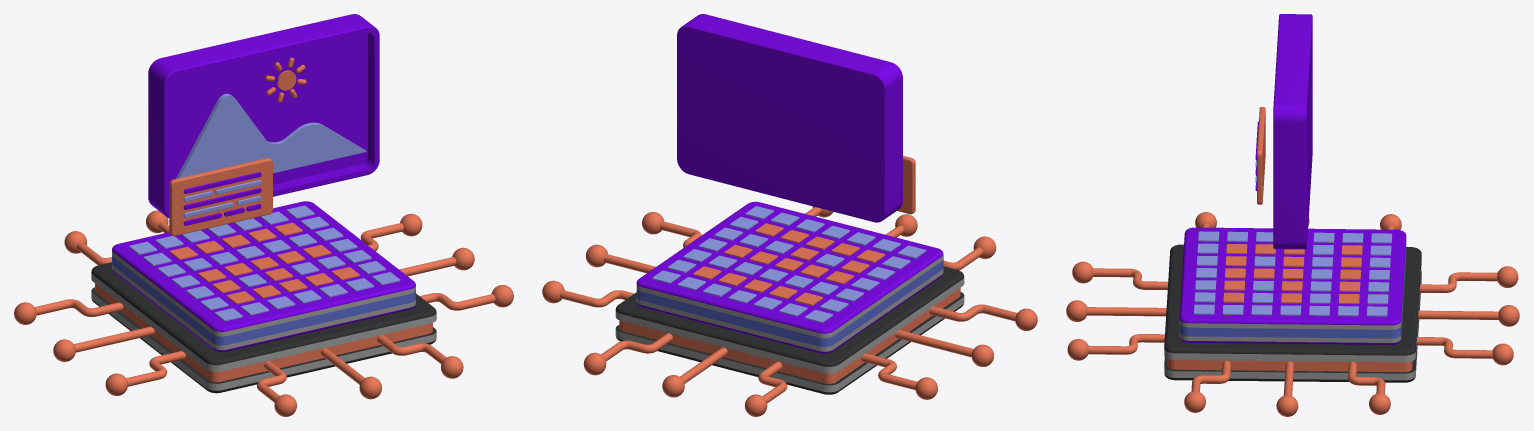
Rendered from ai-image-generator-3d-animated-icon-81048426973.glb.
3 views of the same model, side by side, from view 1: azimuth 30°, elevation 25°; view 2: azimuth 150°, elevation 25°; view 3: azimuth 270°, elevation 25° (orthographic). The views are drawn at different scales.
Parts seen in each view (by area): view 1: Cube.003, Cube.001, Cube, Cube.002, Pin, NurbsPath.004, Cube.004; view 2: Cube.003, Cube.001, Cube, Cube.002, Pin, Cube.004; view 3: Cube.001, Cube, Cube.002, Pin, Cube.003, Cube.004.
Part boxes in pixels (left/top/right/bottom): Cube.003: left=148, top=14, right=379, bottom=217; Cube.001: left=112, top=201, right=415, bottom=351; Cube: left=91, top=262, right=436, bottom=393; Cube.002: left=129, top=205, right=400, bottom=321; Pin: left=14, top=210, right=513, bottom=416; NurbsPath.004: left=176, top=93, right=366, bottom=178; Cube.004: left=169, top=158, right=272, bottom=235; Cube.003: left=677, top=14, right=902, bottom=222; Cube.001: left=636, top=201, right=943, bottom=353; Cube: left=615, top=266, right=964, bottom=394; Cube.002: left=652, top=206, right=926, bottom=322; Pin: left=542, top=206, right=1037, bottom=416; Cube.004: left=897, top=155, right=915, bottom=214; Cube.001: left=1179, top=227, right=1406, bottom=344; Cube: left=1164, top=244, right=1421, bottom=382; Cube.002: left=1193, top=231, right=1392, bottom=316; Pin: left=1066, top=212, right=1519, bottom=416; Cube.003: left=1273, top=14, right=1312, bottom=249; Cube.004: left=1257, top=107, right=1265, bottom=204.
Bounding box in the file's own units: 0.4982 × 0.3225 × 0.4913.
